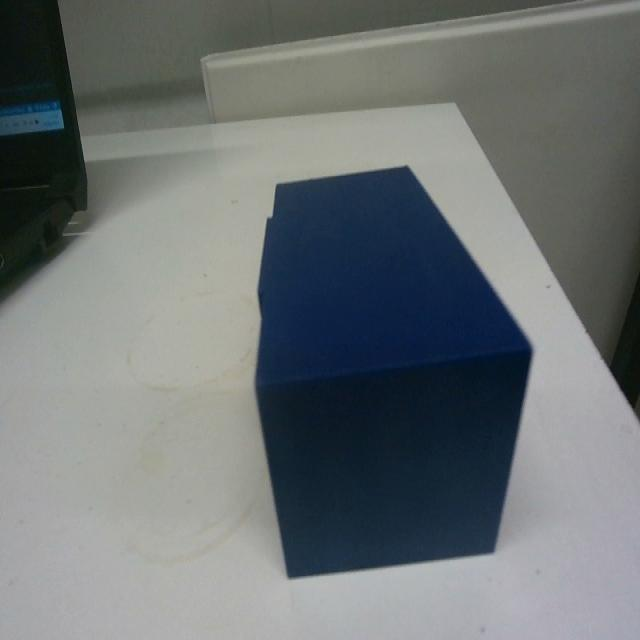Blue Cuboid: (251, 160, 534, 579)
